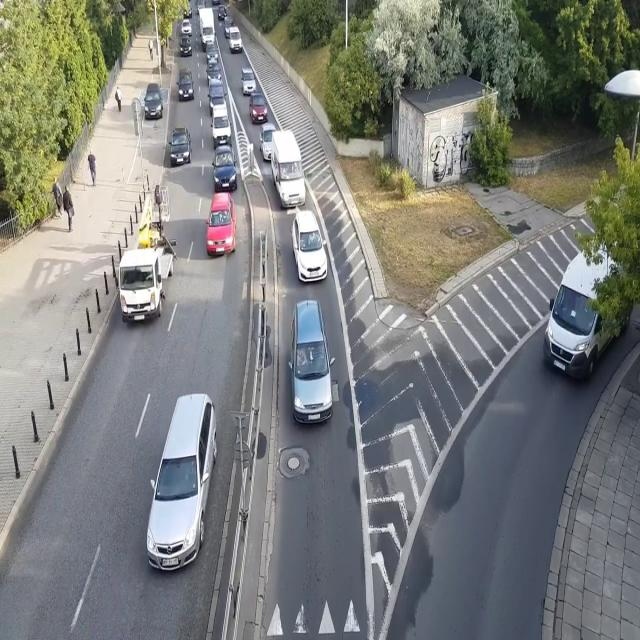car: (145, 391, 218, 573), (287, 297, 336, 426), (290, 209, 328, 282), (204, 190, 236, 258), (212, 145, 237, 192), (168, 126, 192, 165), (259, 122, 279, 162), (144, 82, 164, 121), (248, 91, 268, 122), (177, 68, 195, 102), (206, 60, 222, 83), (206, 42, 219, 63), (179, 36, 192, 55), (180, 19, 192, 36), (216, 5, 226, 21), (182, 5, 192, 18)
truck: (119, 182, 177, 324), (199, 6, 216, 49)
van: (542, 233, 634, 385), (271, 128, 307, 208), (210, 105, 232, 148), (207, 77, 227, 116), (240, 67, 257, 95), (228, 26, 244, 54), (223, 16, 234, 37), (196, 0, 206, 15)
